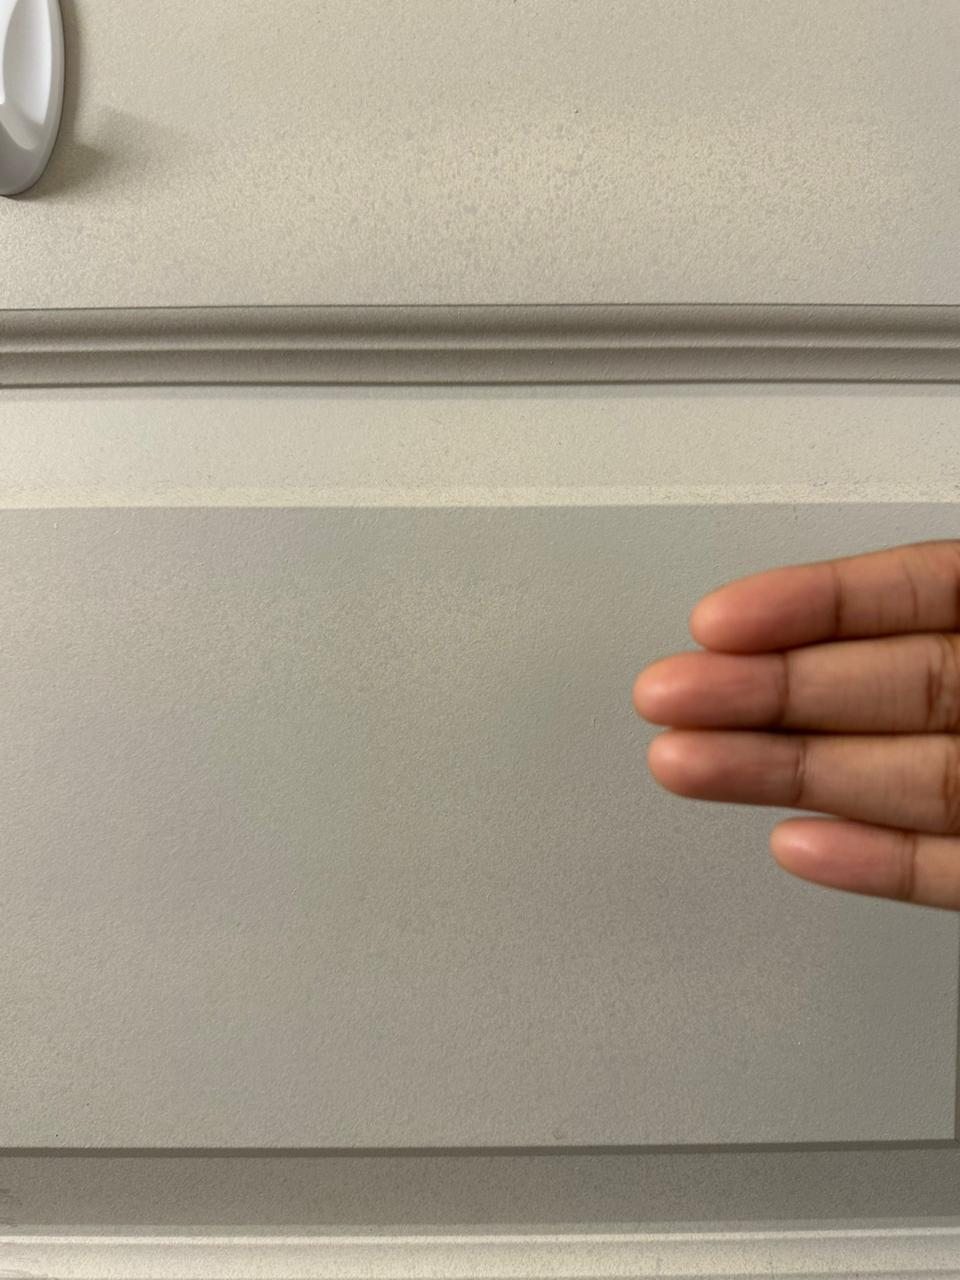finger: (621, 733, 804, 816), (673, 566, 843, 650), (755, 813, 911, 905), (619, 649, 791, 732)
